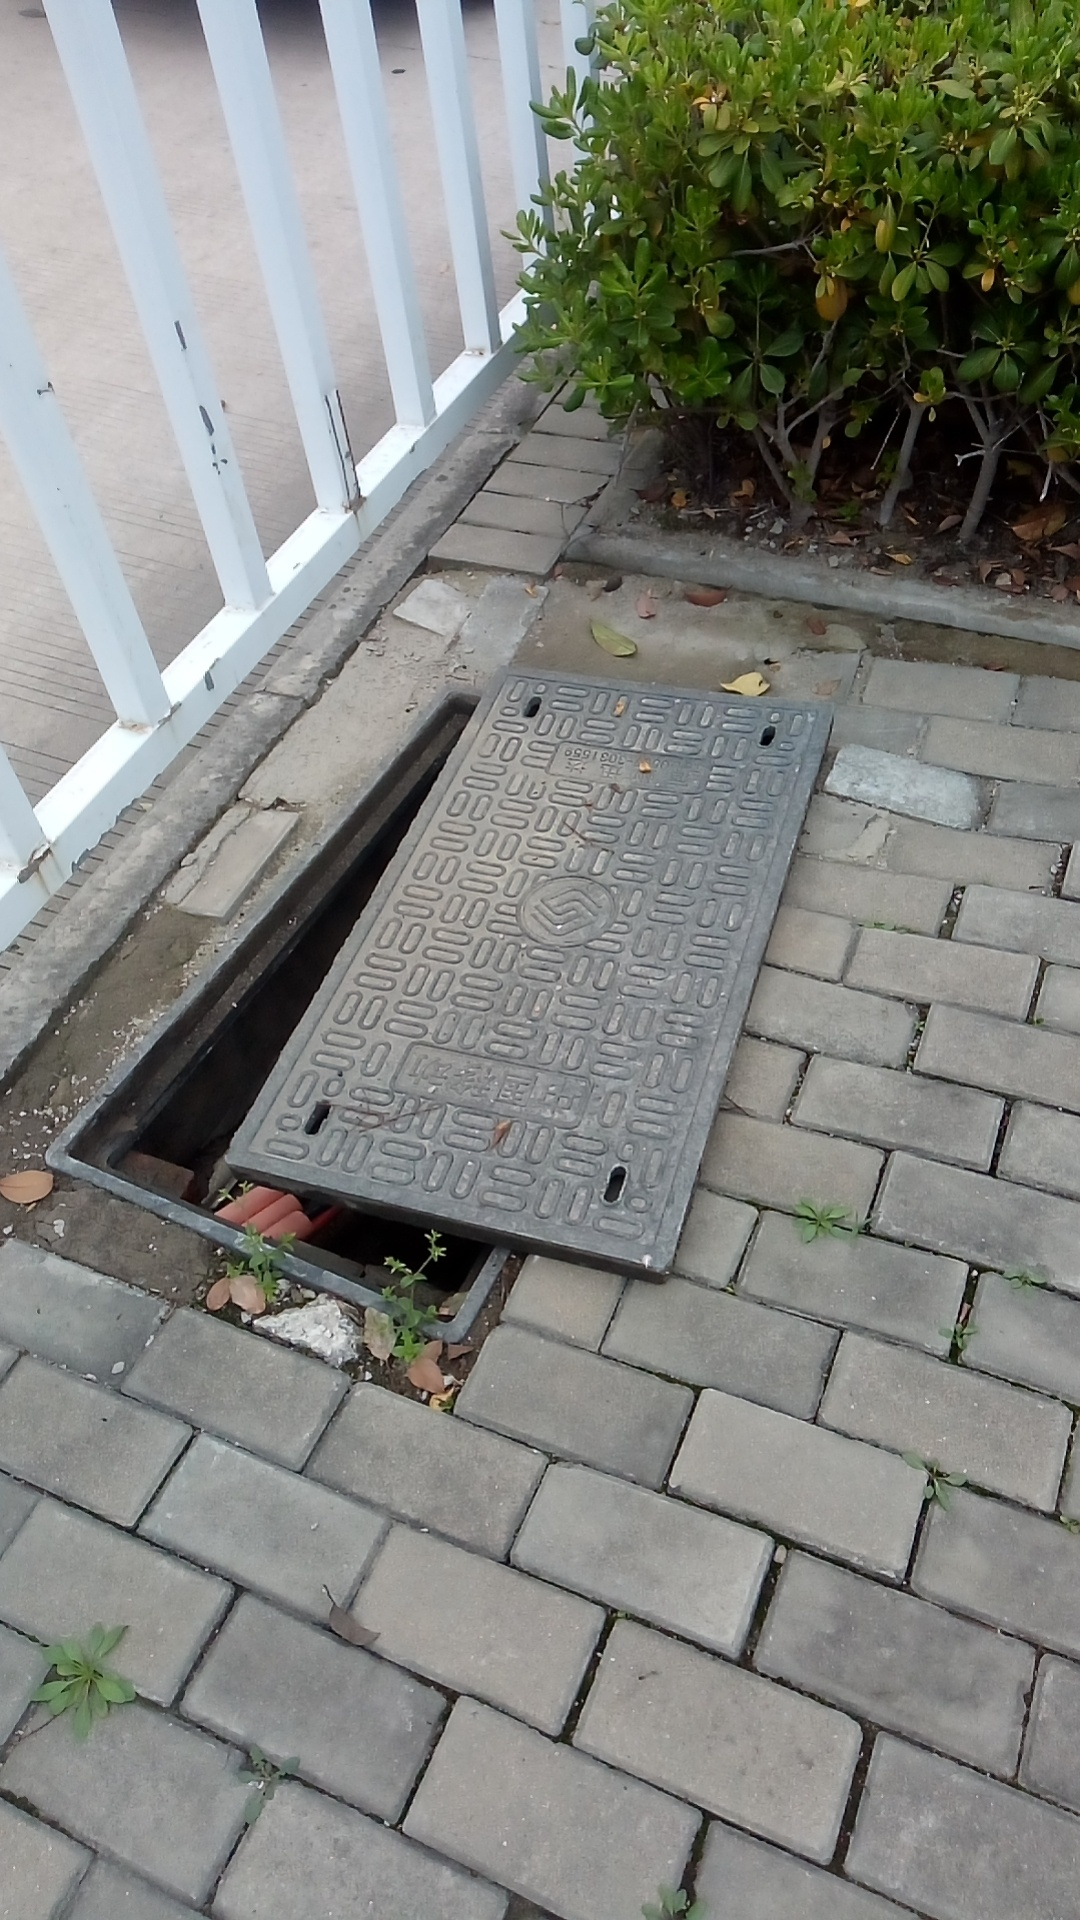uncovered: (44, 669, 832, 1335)
